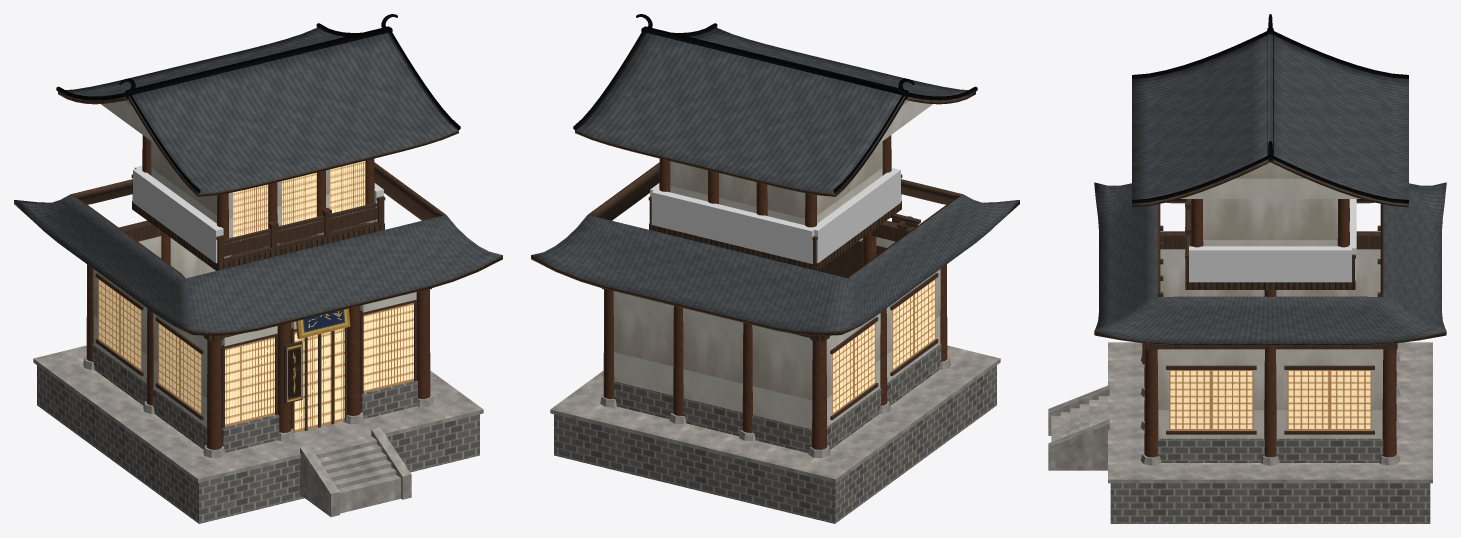
The model's file is pawnshop.glb.
The picture shows the model from 3 angles, left to right: view 1: azimuth 30°, elevation 25°; view 2: azimuth 150°, elevation 25°; view 3: azimuth 270°, elevation 25°; orthographic projection.
Parts seen in each view (by area): view 1: PawnshopRoof, PawnshopLowSkirt, PawnshopLattice, PawnshopPodiumBase, PawnshopPodiumCap, PawnshopColumns, PawnshopDado, PawnshopUpperLattice, PawnshopWalls, PawnshopStairsfront, PawnshopBalconyBalustrade, PawnshopFrames (+11 smaller); view 2: PawnshopRoof, PawnshopLowSkirt, PawnshopWalls, PawnshopPodiumBase, PawnshopPodiumCap, PawnshopDado, PawnshopColumns, PawnshopBalconyRail-convcolonly.002, PawnshopLattice, PawnshopUpperWalls, PawnshopRoofRidge, PawnshopBalconyRail-convcolonly.003 (+6 smaller); view 3: PawnshopRoof, PawnshopLowSkirt, PawnshopPodiumCap, PawnshopPodiumBase, PawnshopWalls, PawnshopLattice, PawnshopUpperWalls, PawnshopBalconyRail-convcolonly.001, PawnshopDado, PawnshopColumns, PawnshopGables, PawnshopCheeksfront (+7 smaller).
Boxes of the visible parts, left/top/right/bottom form: PawnshopRoof: left=58, top=27, right=458, bottom=196; PawnshopLowSkirt: left=14, top=162, right=502, bottom=335; PawnshopLattice: left=98, top=279, right=413, bottom=432; PawnshopPodiumBase: left=37, top=365, right=479, bottom=523; PawnshopPodiumCap: left=33, top=327, right=483, bottom=482; PawnshopColumns: left=86, top=232, right=430, bottom=449; PawnshopDado: left=92, top=344, right=417, bottom=452; PawnshopUpperLattice: left=233, top=160, right=365, bottom=240; PawnshopWalls: left=93, top=236, right=416, bottom=426; PawnshopStairsfront: left=313, top=437, right=400, bottom=513; PawnshopBalconyBalustrade: left=131, top=174, right=385, bottom=263; PawnshopFrames: left=95, top=273, right=416, bottom=432; PawnshopRoof: left=575, top=27, right=975, bottom=196; PawnshopLowSkirt: left=531, top=162, right=1019, bottom=335; PawnshopWalls: left=613, top=237, right=940, bottom=429; PawnshopPodiumBase: left=554, top=365, right=996, bottom=523; PawnshopPodiumCap: left=550, top=345, right=1000, bottom=482; PawnshopDado: left=613, top=344, right=941, bottom=452; PawnshopColumns: left=603, top=232, right=947, bottom=449; PawnshopBalconyRail-convcolonly.002: left=651, top=189, right=815, bottom=263; PawnshopLattice: left=832, top=279, right=935, bottom=415; PawnshopUpperWalls: left=670, top=141, right=882, bottom=225; PawnshopRoofRidge: left=573, top=14, right=977, bottom=193; PawnshopBalconyRail-convcolonly.003: left=811, top=168, right=900, bottom=263; PawnshopRoof: left=1132, top=33, right=1408, bottom=207; PawnshopLowSkirt: left=1094, top=182, right=1446, bottom=345; PawnshopPodiumCap: left=1108, top=342, right=1432, bottom=483; PawnshopPodiumBase: left=1110, top=483, right=1430, bottom=523; PawnshopWalls: left=1157, top=249, right=1383, bottom=438; PawnshopLattice: left=1169, top=370, right=1371, bottom=430; PawnshopUpperWalls: left=1203, top=199, right=1337, bottom=246; PawnshopBalconyRail-convcolonly.001: left=1189, top=246, right=1351, bottom=282; PawnshopDado: left=1157, top=438, right=1383, bottom=462; PawnshopColumns: left=1144, top=290, right=1396, bottom=457; PawnshopGables: left=1180, top=162, right=1360, bottom=198; PawnshopCheeksfront: left=1048, top=385, right=1109, bottom=470.
Size of what is drawn, in the model's own units: 11.92 by 14.09 by 13.47.
13 materials, 13 textured.
